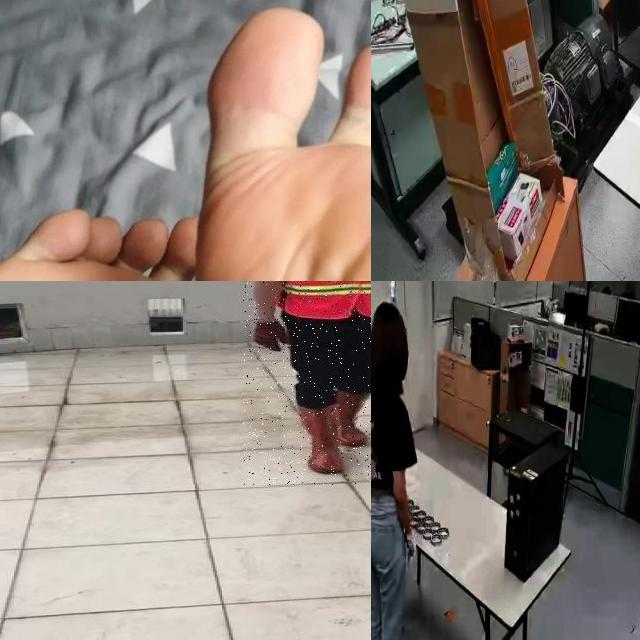Barefoots: (207, 14, 371, 281)
boots: (300, 406, 346, 475), (342, 393, 371, 448)
hand_glove: (402, 526, 422, 557)
head_nohelmet: (371, 299, 408, 340)
person: (243, 281, 371, 486), (371, 298, 431, 640)
vest: (284, 281, 371, 319)
